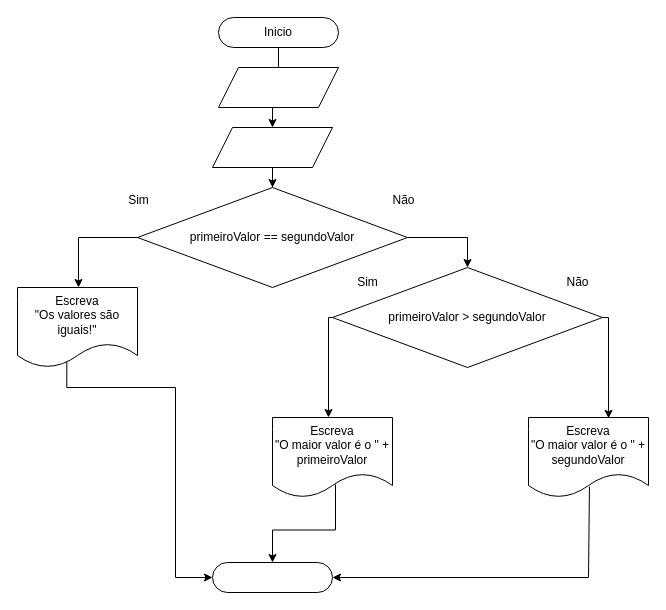
This 666x610 diagram has some shape labels left out. Here are the shapes that lost their labels. From the top down, the centre of each, then its label:
At (x=278, y=87): "Ler primeiroValor".
At (x=272, y=147): "Ler segundoValor".
At (x=272, y=577): "Fim".
